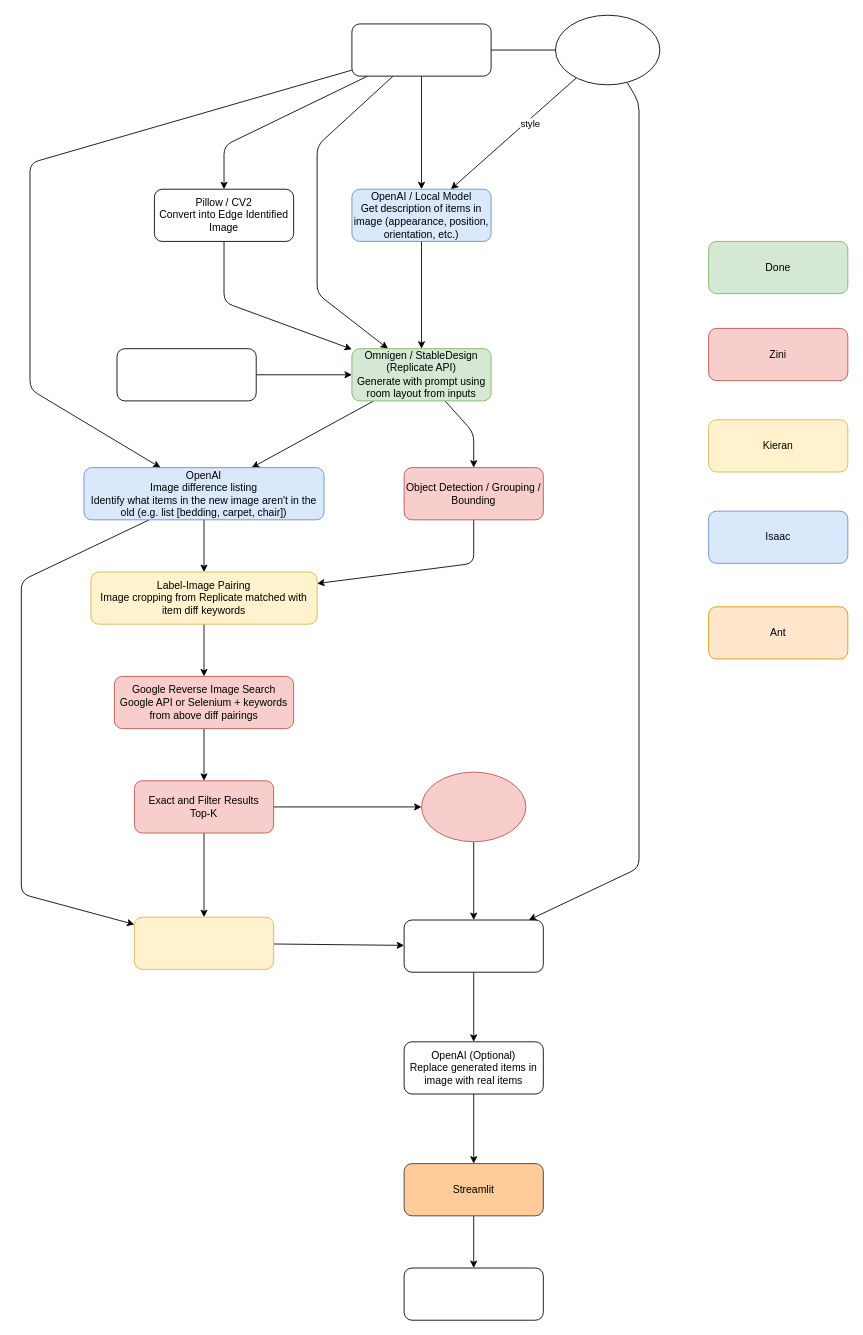
The diagram is 863 pixels wide and 1335 high, and some of its shapes have lost their labels. Here are the shapes that lost their labels. From the top down, the box of each, then its label:
(351, 23, 491, 76): Base Image
(555, 14, 660, 85): Parameters {style, buget, etc.}
(116, 348, 256, 401): (RAG) Sample Decorated Dorm Images
(421, 771, 526, 842): Images Prices Companies Location etc.
(134, 916, 274, 969): Approximate Similarity Check Top-K
(403, 919, 543, 972): Verification
(403, 1267, 543, 1320): Output
